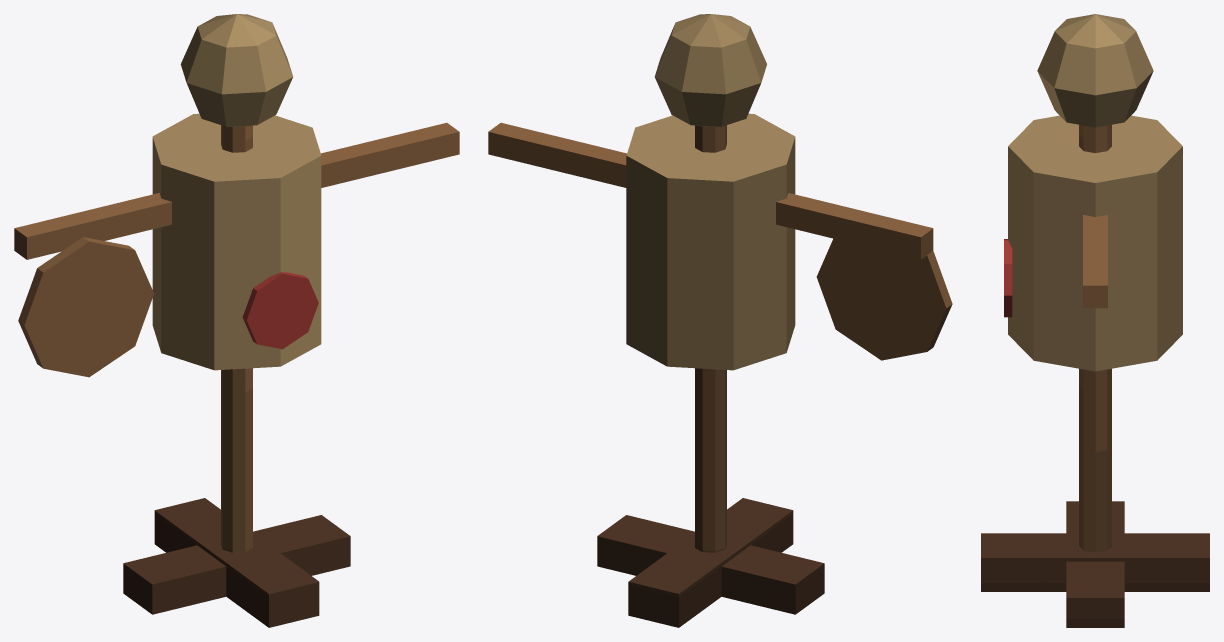
The model's file is training_dummy.glb.
3 views of the same model, side by side, from view 1: azimuth 30°, elevation 25°; view 2: azimuth 150°, elevation 25°; view 3: azimuth 270°, elevation 25° (orthographic).
Bounding box in the file's own units: 1.23 × 1.5 × 0.55.
Materials: 1 (1 with a texture image).
